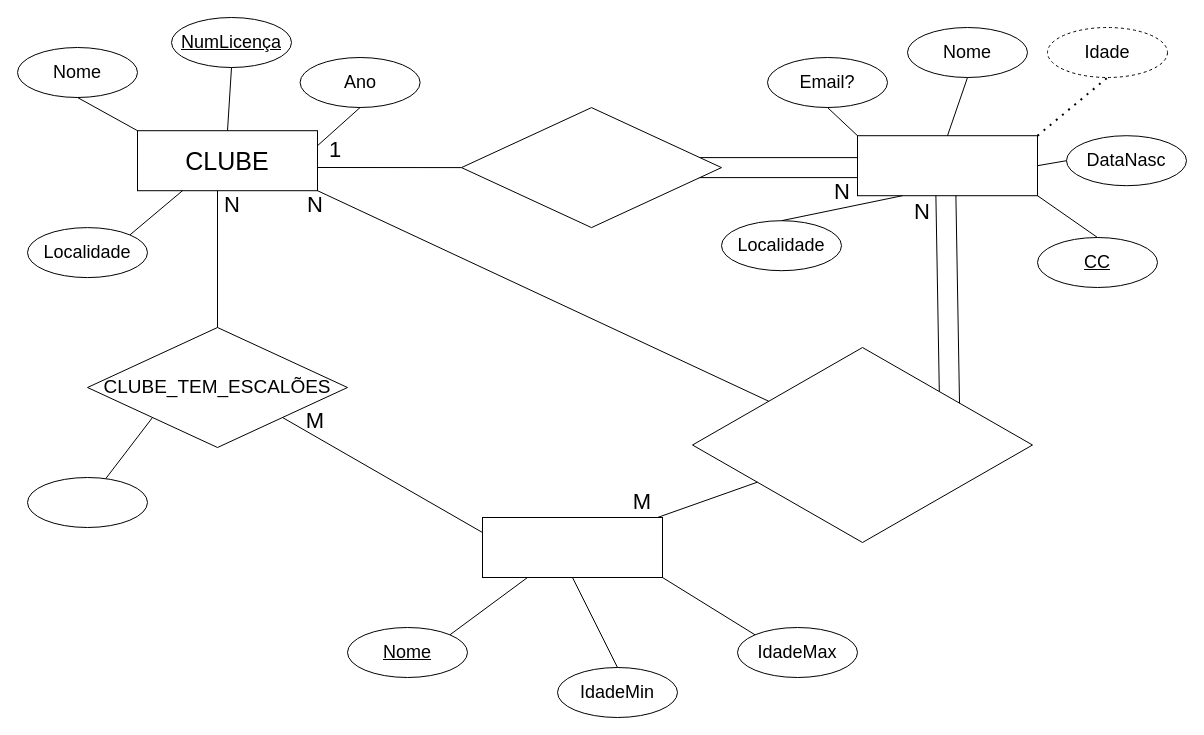
Some shapes in this 1204 by 735 pixel diagram are drawn without their labels. The centre of each missing label's shape, as x and y in pixels:
"ATLETA" belongs at (947,165).
"CLUBE_TEM_ATLETAS" belongs at (591,167).
"CLUBE_TEM_ATLETAS_NO_ESCALÃO" belongs at (862,444).
"ESCALÃO" belongs at (572,547).
"Nome?" belongs at (87,502).
